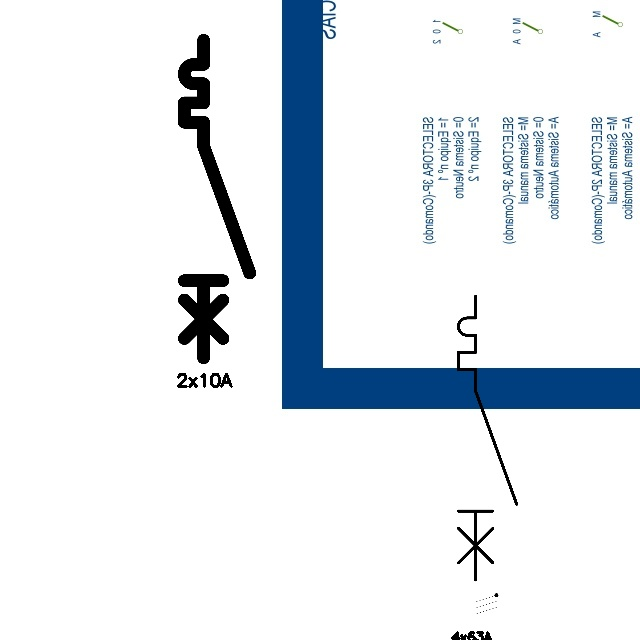interruptor_termomagnetico: (176, 32, 257, 366), (451, 289, 524, 587)
